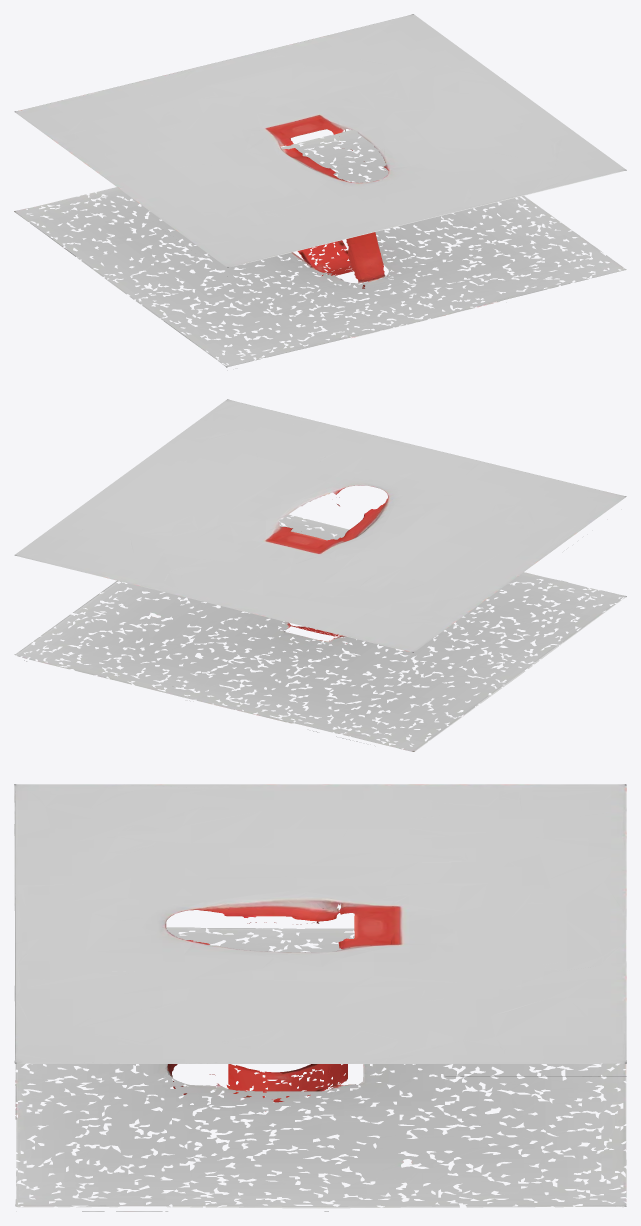
The picture shows the model from 3 angles, top to bottom: view 1: azimuth 30°, elevation 25°; view 2: azimuth 150°, elevation 25°; view 3: azimuth 270°, elevation 25°; orthographic projection. The views are drawn at different scales.
Parts seen in each view (by area): view 1: geometry_0; view 2: geometry_0; view 3: geometry_0.
Part boxes in pixels (x1=…): geometry_0: x1=14, y1=14, x2=626, y2=367; geometry_0: x1=14, y1=399, x2=626, y2=751; geometry_0: x1=14, y1=784, x2=626, y2=1211.
Size of the model in its own units: 1 by 0.2897 by 0.9255.
Materials: 1 (1 with a texture image).
